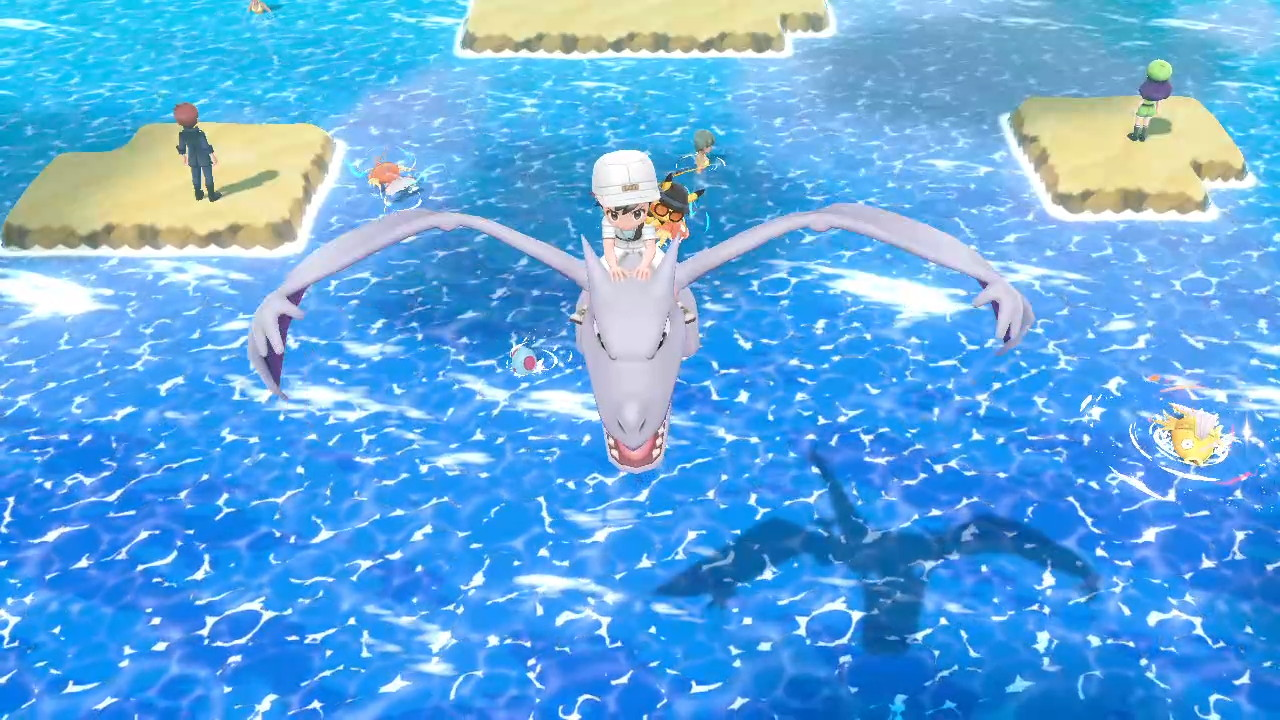Golden: (1146, 397, 1238, 474)
